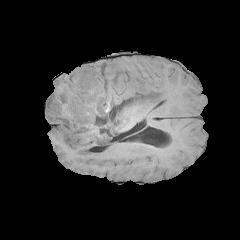glioma: (46, 60, 174, 164)
